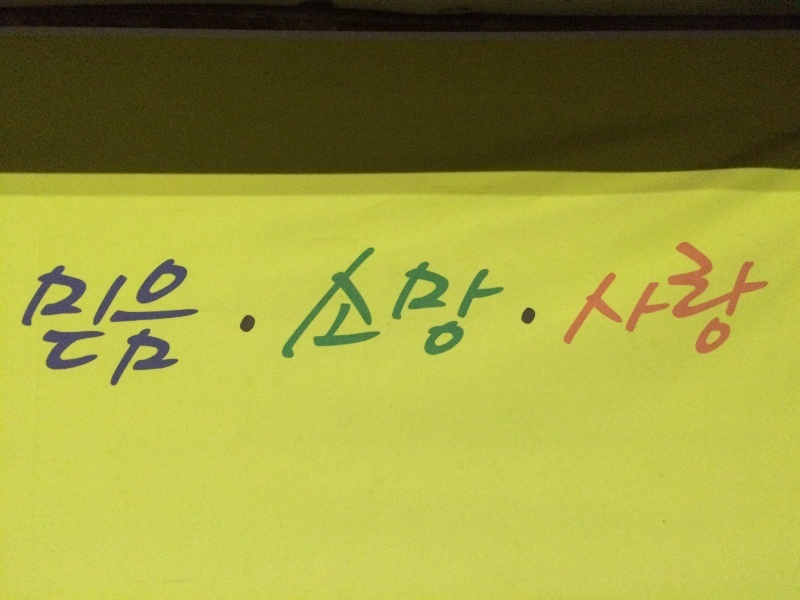text: (33, 256, 48, 388), (49, 256, 64, 388), (65, 256, 80, 388), (81, 256, 96, 388), (97, 256, 112, 388), (113, 256, 128, 388), (129, 256, 144, 388), (145, 256, 160, 388), (161, 256, 176, 388), (177, 256, 192, 388), (369, 243, 384, 365), (385, 243, 400, 365), (401, 243, 416, 365), (417, 243, 432, 365), (433, 243, 448, 365), (449, 243, 464, 365), (465, 243, 480, 365), (481, 243, 496, 365), (497, 243, 512, 365), (609, 241, 624, 360), (625, 241, 640, 360), (641, 241, 656, 360), (657, 241, 672, 360), (673, 241, 688, 360), (689, 241, 704, 360), (705, 241, 720, 360), (721, 241, 736, 360), (737, 241, 752, 360), (753, 241, 768, 360), (21, 256, 32, 388), (769, 241, 781, 360), (358, 243, 368, 365), (193, 256, 202, 388), (601, 241, 608, 360), (513, 243, 517, 365)
